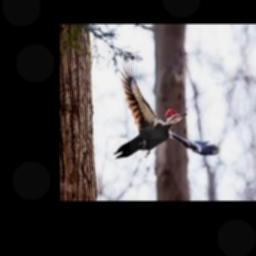Woodpecker: (114, 61, 220, 158)
